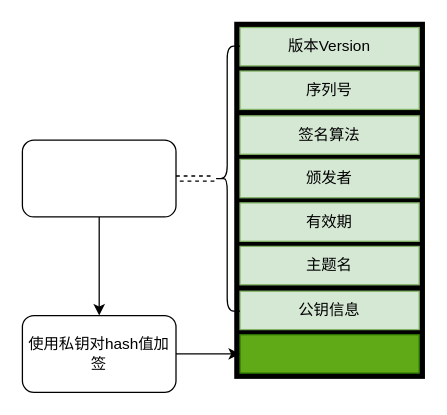
Image size: 447x415. Some labels were removed from this diagram. Each missing label, with the box of its shape:
对该部分做hash: (21, 139, 176, 217)
签名: (239, 333, 419, 373)
